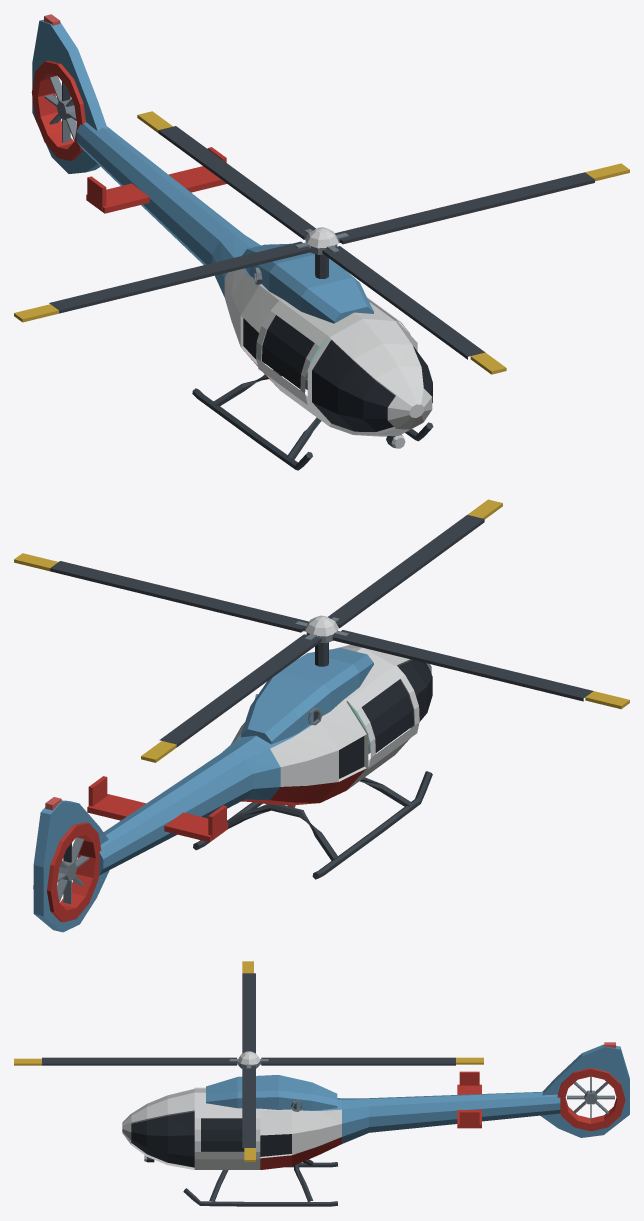
File: air-ambulance-helicopter-ed9acc.glb
The picture shows the model from 3 angles, top to bottom: view 1: azimuth 30°, elevation 25°; view 2: azimuth 150°, elevation 25°; view 3: azimuth 270°, elevation 25°; orthographic projection. The views are drawn at different scales.
Visible parts, largest first — view 1: air-ambulance-helicopter, rotor, tail-fan; view 2: air-ambulance-helicopter, rotor, tail-fan; view 3: air-ambulance-helicopter, rotor, door-r, tail-fan.
Part boxes in pixels (bbox=[...]): air-ambulance-helicopter: bbox=[31, 14, 433, 470]; rotor: bbox=[14, 111, 629, 374]; tail-fan: bbox=[44, 75, 76, 142]; air-ambulance-helicopter: bbox=[33, 642, 432, 932]; rotor: bbox=[14, 499, 629, 762]; tail-fan: bbox=[56, 837, 89, 904]; air-ambulance-helicopter: bbox=[122, 1042, 629, 1206]; rotor: bbox=[14, 961, 483, 1161]; door-r: bbox=[194, 1109, 260, 1159]; tail-fan: bbox=[567, 1076, 614, 1120].
Size of the model in its own units: 10.38 by 3.49 by 13.6.
